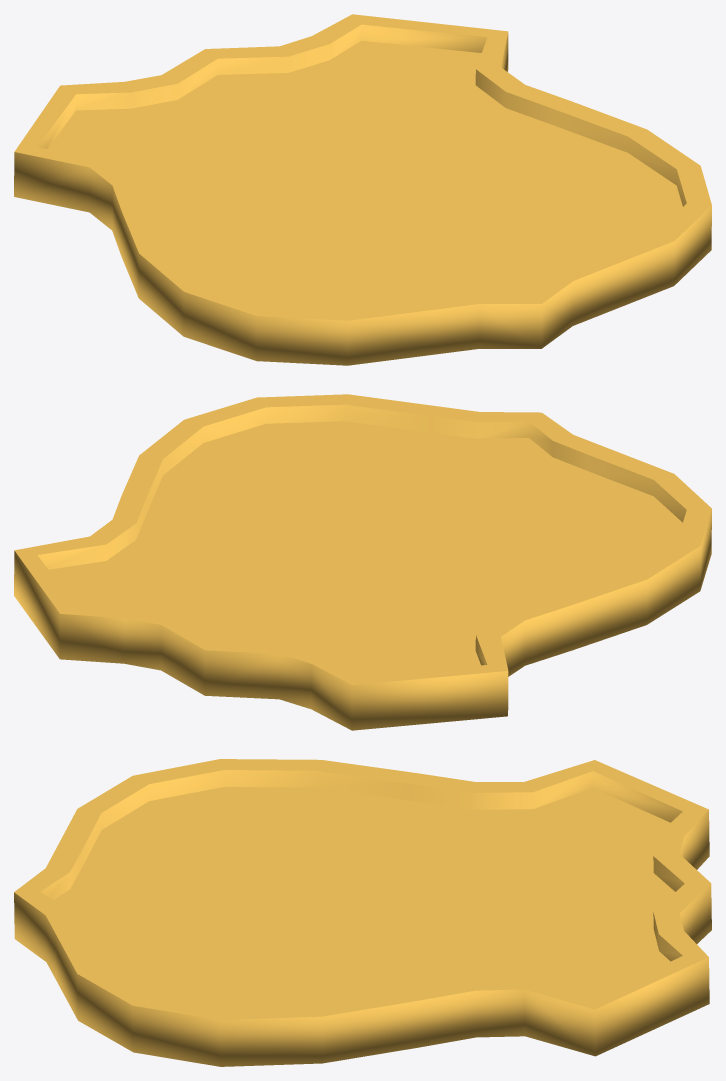
File: Police Badge.fbx
3 renders of one model, top to bottom at view 1: azimuth 30°, elevation 25°; view 2: azimuth 150°, elevation 25°; view 3: azimuth 270°, elevation 25°, orthographic. The views are drawn at different scales.
Parts seen in each view (by area): view 1: Police Badge; view 2: Police Badge; view 3: Police Badge.
Part boxes in pixels (<box>): Police Badge: <box>14,14,711,365</box>; Police Badge: <box>14,394,711,730</box>; Police Badge: <box>14,759,711,1066</box>.
Size of the model in its own units: 7.48 by 0.7452 by 8.45.
